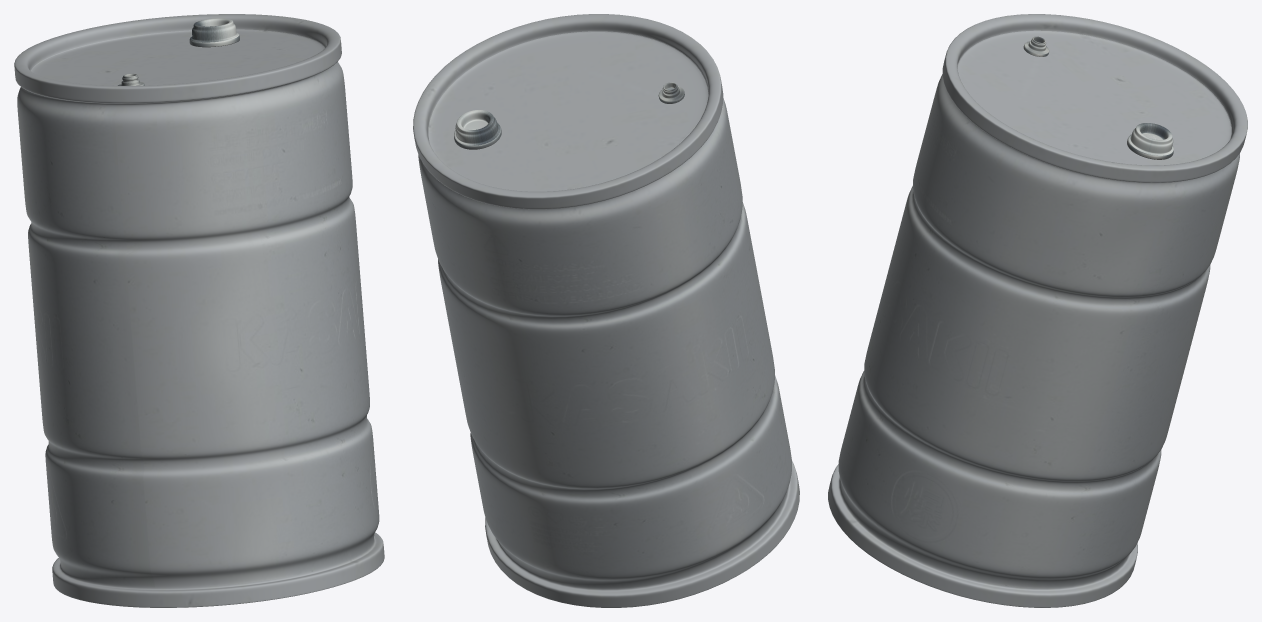
File: detail.glb
3 views of the same model, side by side, from view 1: azimuth 30°, elevation 25°; view 2: azimuth 150°, elevation 25°; view 3: azimuth 270°, elevation 25° (orthographic). The views are drawn at different scales.
Parts seen in each view (by area): view 1: 油桶, pCylinder2; view 2: 油桶, pCylinder2; view 3: 油桶, pCylinder2.
Part boxes in pixels (x1=…): 油桶: x1=14, y1=14, x2=384, y2=607; pCylinder2: x1=189, y1=18, x2=239, y2=47; 油桶: x1=413, y1=14, x2=799, y2=607; pCylinder2: x1=454, y1=110, x2=501, y2=149; 油桶: x1=828, y1=14, x2=1247, y2=607; pCylinder2: x1=1127, y1=123, x2=1173, y2=159.
Bounding box in the file's own units: 73.16 × 124 × 91.96.
Materials: 3 (3 with a texture image).
